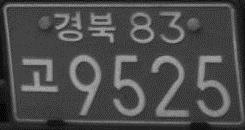2: (149, 53, 191, 120)
3: (157, 10, 186, 44)
5: (195, 54, 232, 118), (111, 53, 146, 116)
8: (127, 10, 155, 44)
9: (67, 53, 102, 117)
경북_O: (52, 10, 117, 43)
고: (18, 56, 60, 95)
